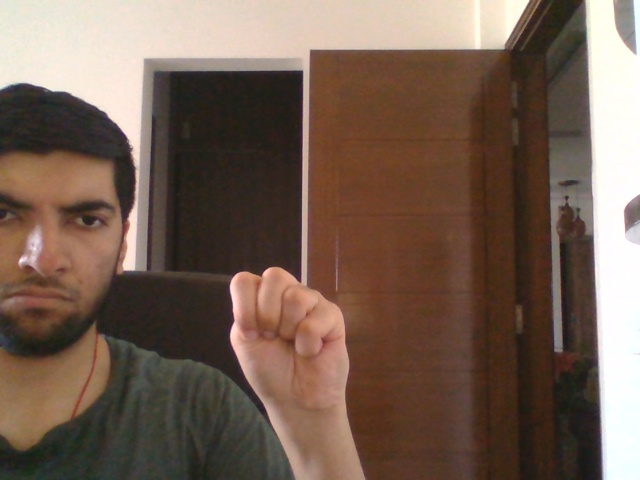LetterM: (228, 266, 350, 413)
